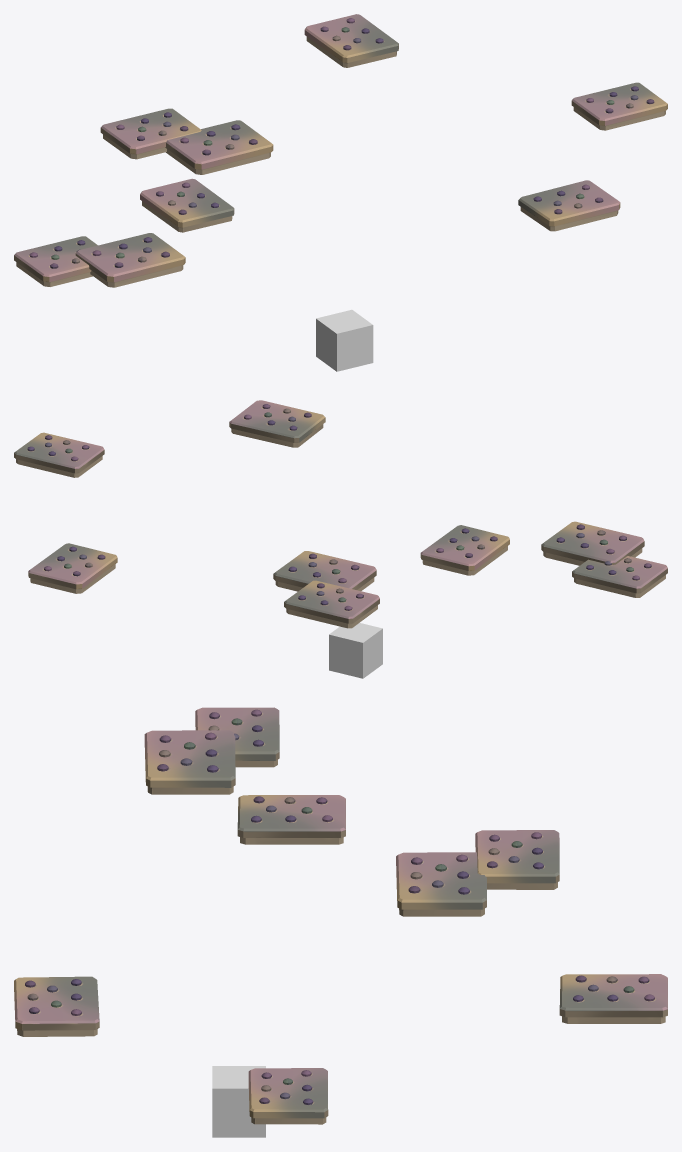
File: battlescence-3-floor001.fbx
3 renders of one model, top to bottom at view 1: azimuth 30°, elevation 25°; view 2: azimuth 150°, elevation 25°; view 3: azimuth 270°, elevation 25°, orthographic. The views are drawn at different scales.
Parts seen in each view (by area): view 1: floor.014, floor.016, floor.018, floor.002, floor.003, floor.017, floor.015, battlescence-3-floor001, floor.004; view 2: floor.014, floor.018, floor.015, floor.003, floor.002, floor.016, floor.004, floor.017, battlescence-3-floor001; view 3: floor.014, floor.016, floor.003, floor.002, floor.018, floor.015, floor.017, floor.004, battlescence-3-floor001.
Boxes of the visible parts, bbox=[...] form: floor.014: bbox=[75, 233, 185, 287]; floor.016: bbox=[165, 120, 273, 174]; floor.018: bbox=[518, 180, 620, 231]; floor.002: bbox=[304, 14, 398, 67]; floor.003: bbox=[140, 178, 234, 232]; floor.017: bbox=[571, 82, 667, 130]; floor.015: bbox=[100, 108, 201, 159]; battlescence-3-floor001: bbox=[316, 309, 373, 371]; floor.004: bbox=[14, 236, 97, 286]; floor.014: bbox=[541, 521, 644, 565]; floor.018: bbox=[229, 400, 325, 447]; floor.015: bbox=[284, 580, 379, 628]; floor.003: bbox=[420, 525, 509, 575]; floor.002: bbox=[28, 543, 117, 593]; floor.016: bbox=[273, 551, 376, 591]; floor.004: bbox=[572, 556, 667, 597]; floor.017: bbox=[14, 432, 104, 477]; battlescence-3-floor001: bbox=[329, 623, 382, 678]; floor.014: bbox=[144, 730, 235, 794]; floor.016: bbox=[396, 852, 486, 916]; floor.003: bbox=[237, 795, 345, 844]; floor.002: bbox=[559, 974, 667, 1023]; floor.018: bbox=[14, 976, 99, 1036]; floor.015: bbox=[475, 830, 559, 889]; floor.017: bbox=[248, 1068, 328, 1124]; floor.004: bbox=[195, 707, 279, 767]; battlescence-3-floor001: bbox=[212, 1066, 265, 1137].
Bounding box in the file's own units: 2584 × 702 × 1769.
